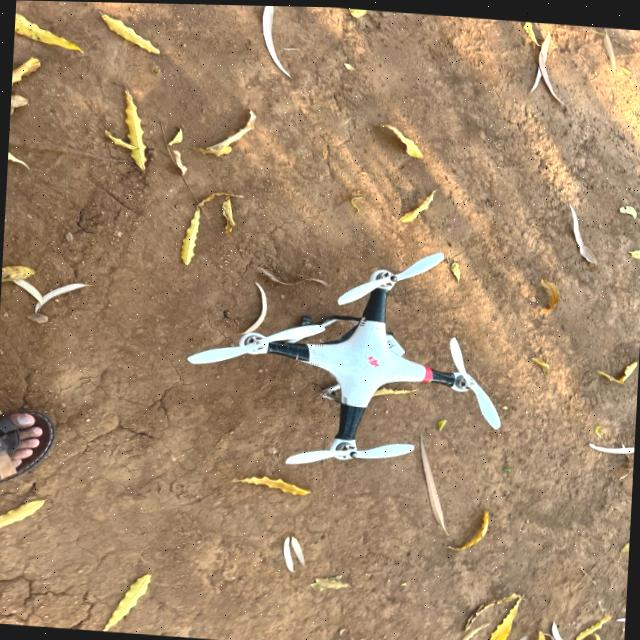drone: (95, 163, 600, 564)
